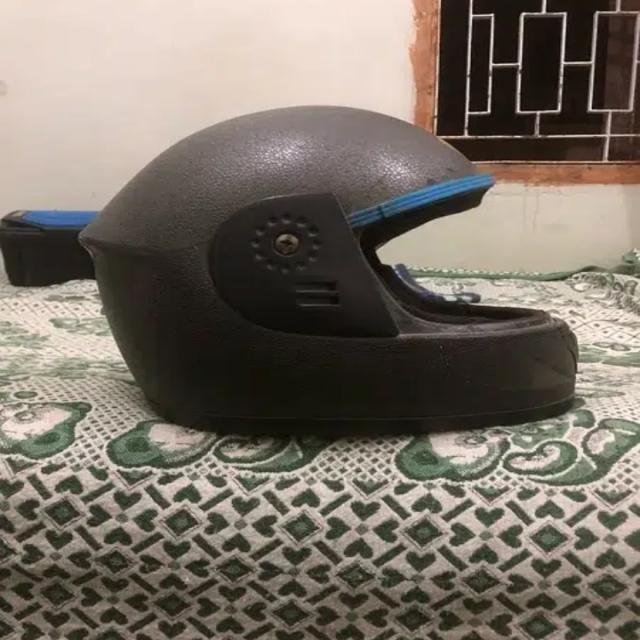Helmet: (111, 105, 547, 428)
